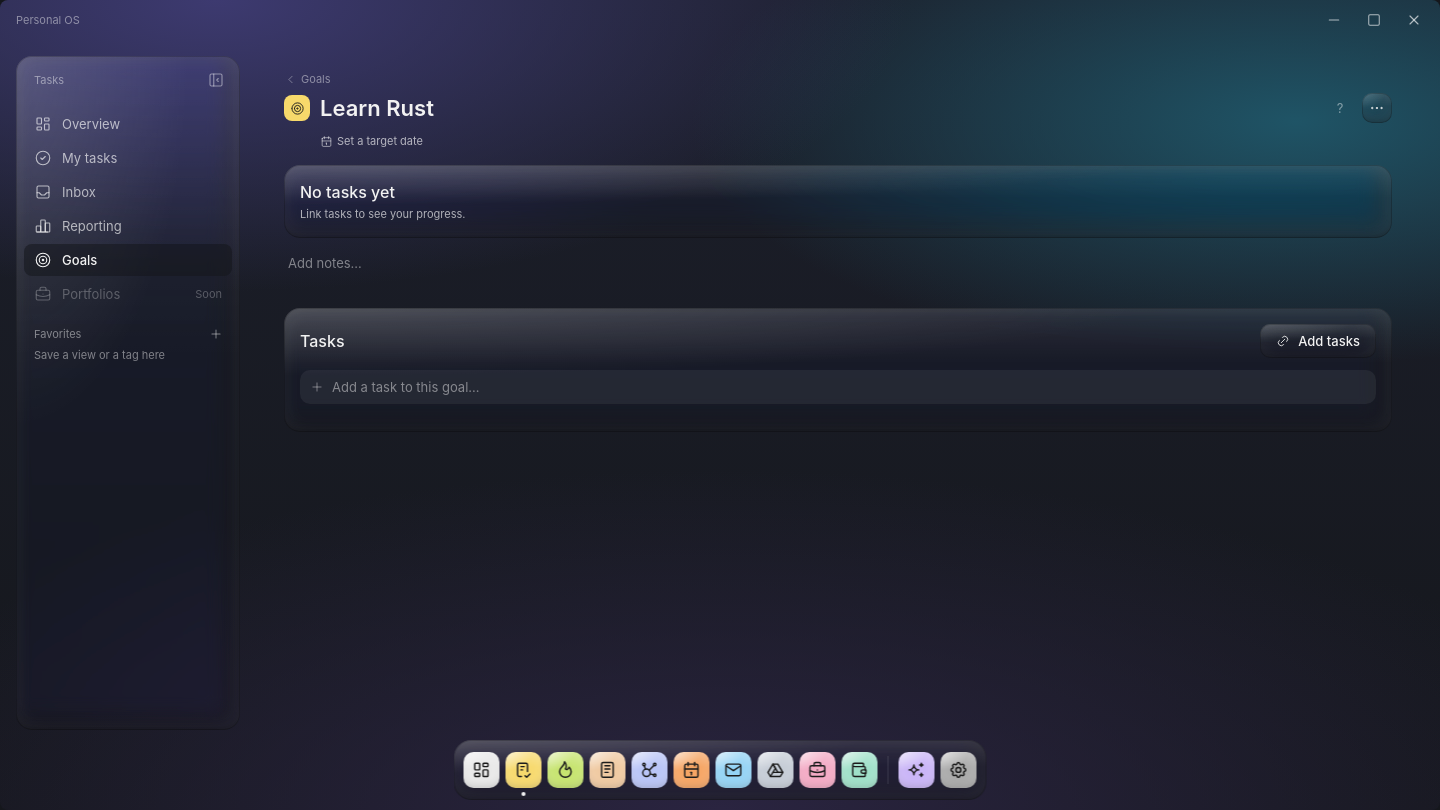
Scenario: the more menu › offers Mark as achieved, Drop goal and Delete goal for an active goal
The image size is (1440, 810).
Expected: the field named "Goal title" is shown, 316,94 -> 1318,122
What coordinates should you click on to do the following:
click the button named "More"
I would click on:
 (1377, 108)
Its box is 1362,93 -> 1392,123.
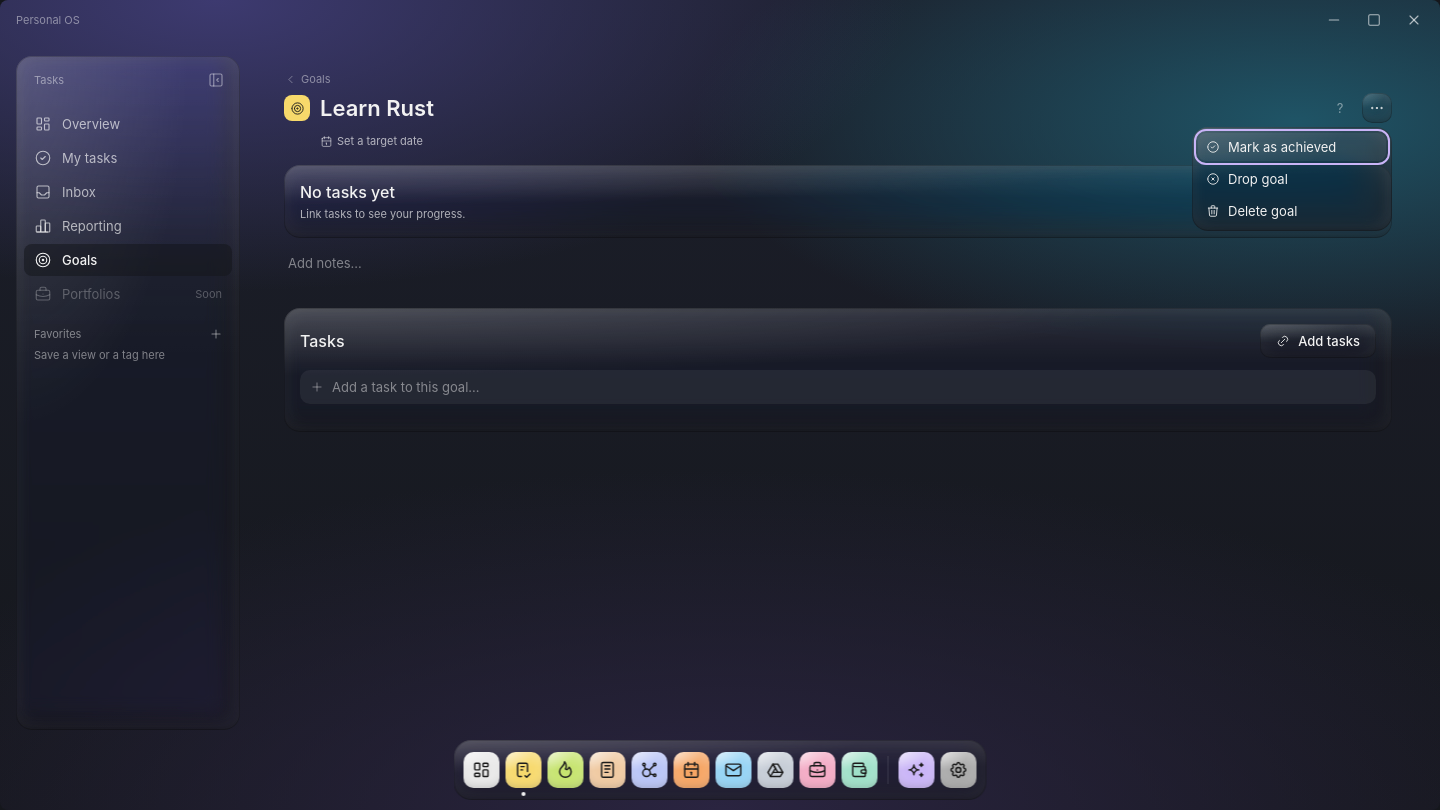
Now the menu item "Mark as achieved" is shown, box 1198,133 -> 1386,161
Now the menu item "Drop goal" is shown, box 1198,165 -> 1386,193
Now the menu item "Delete goal" is shown, box 1198,197 -> 1386,225
